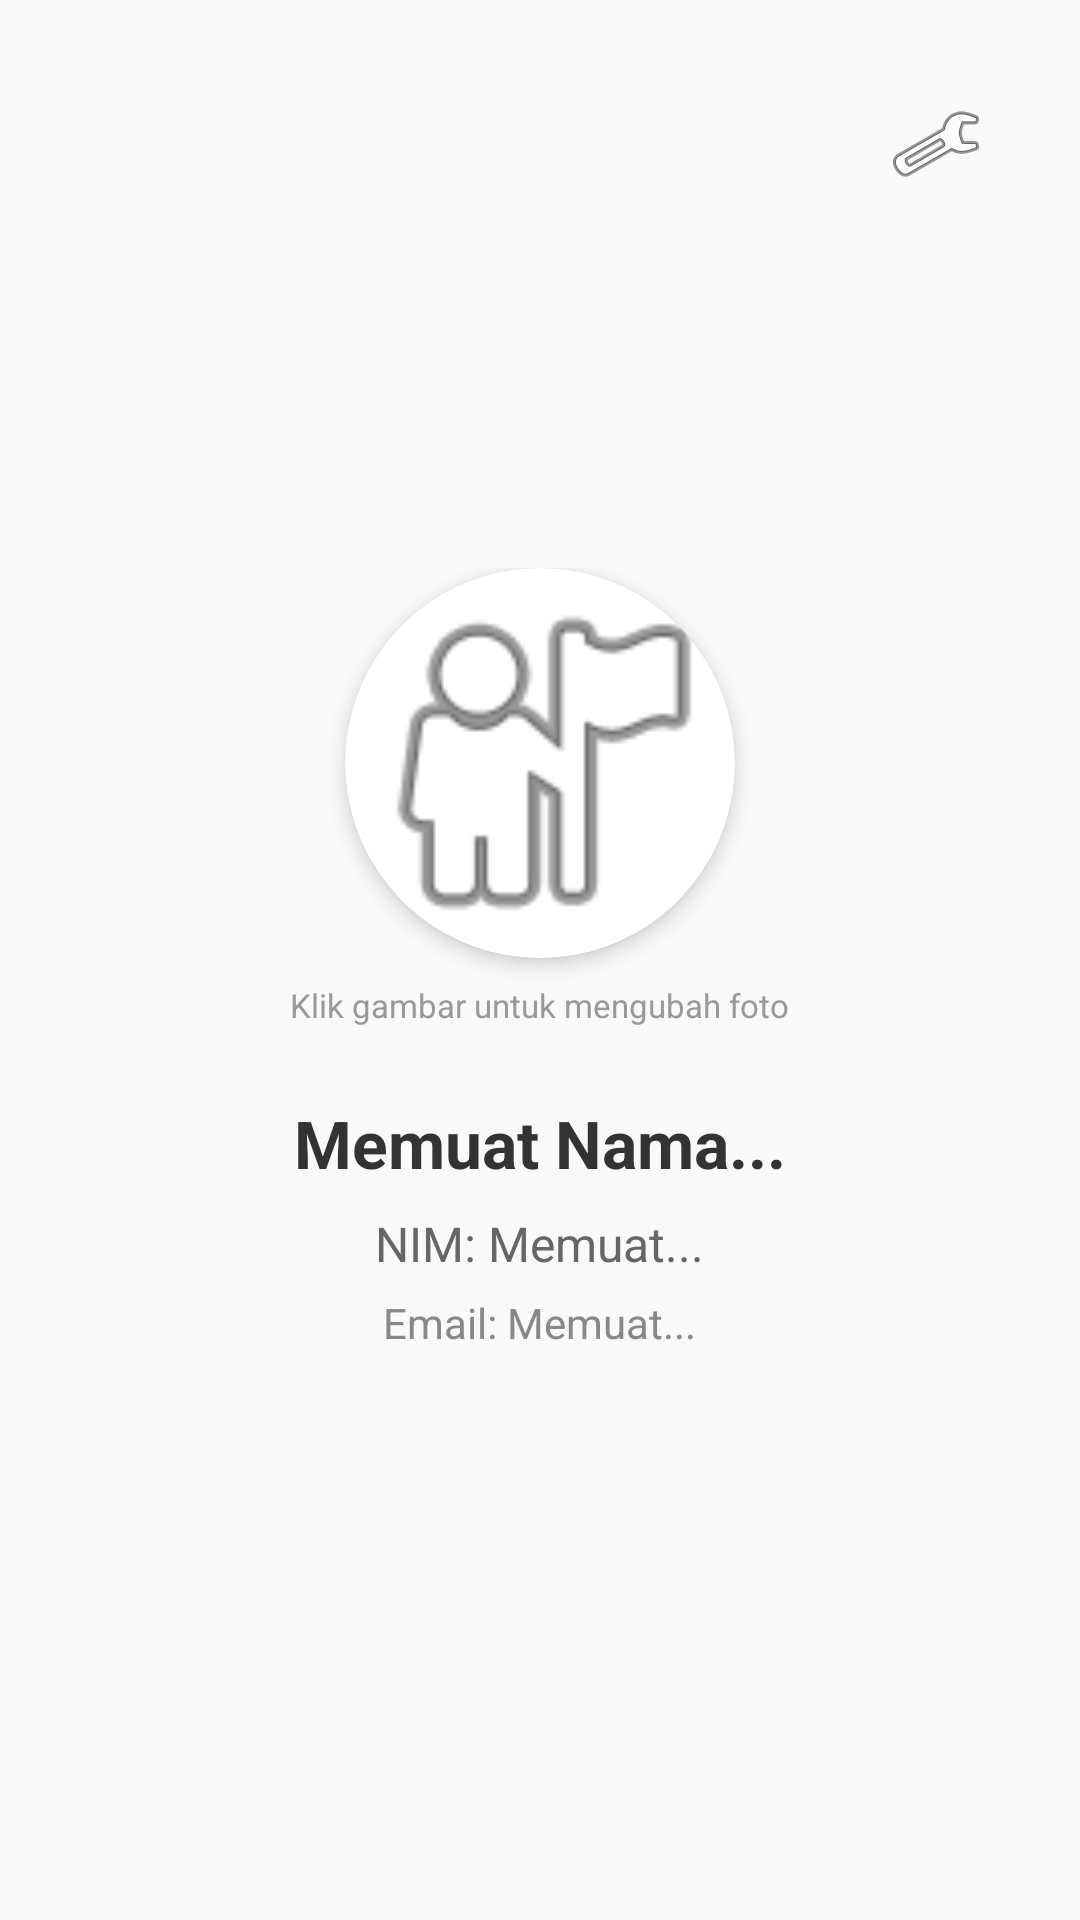

Icons on this 1080x1920 Android screen, each with the point to tap as (x,y):
Pengaturan: (936,144)
